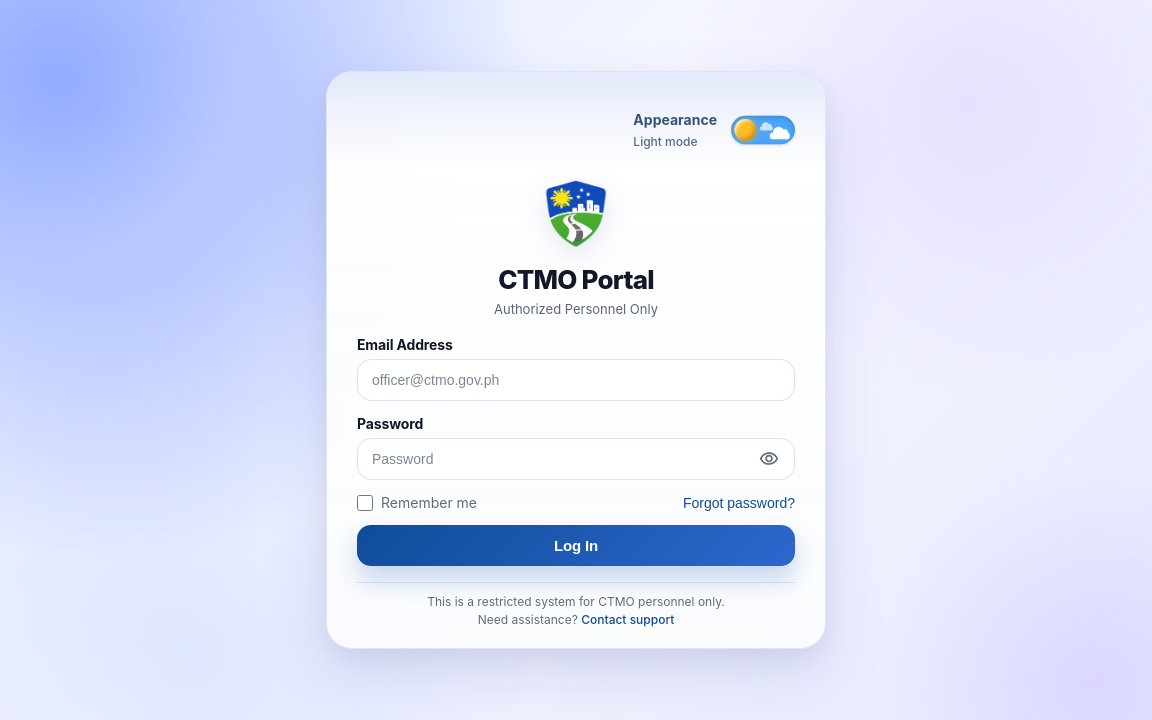
Test: login explains a non-JSON server rejection (400)
Type "officer@example.com" into the field labelled "Email Address". click: (576, 380)
box: [357,359,795,401]
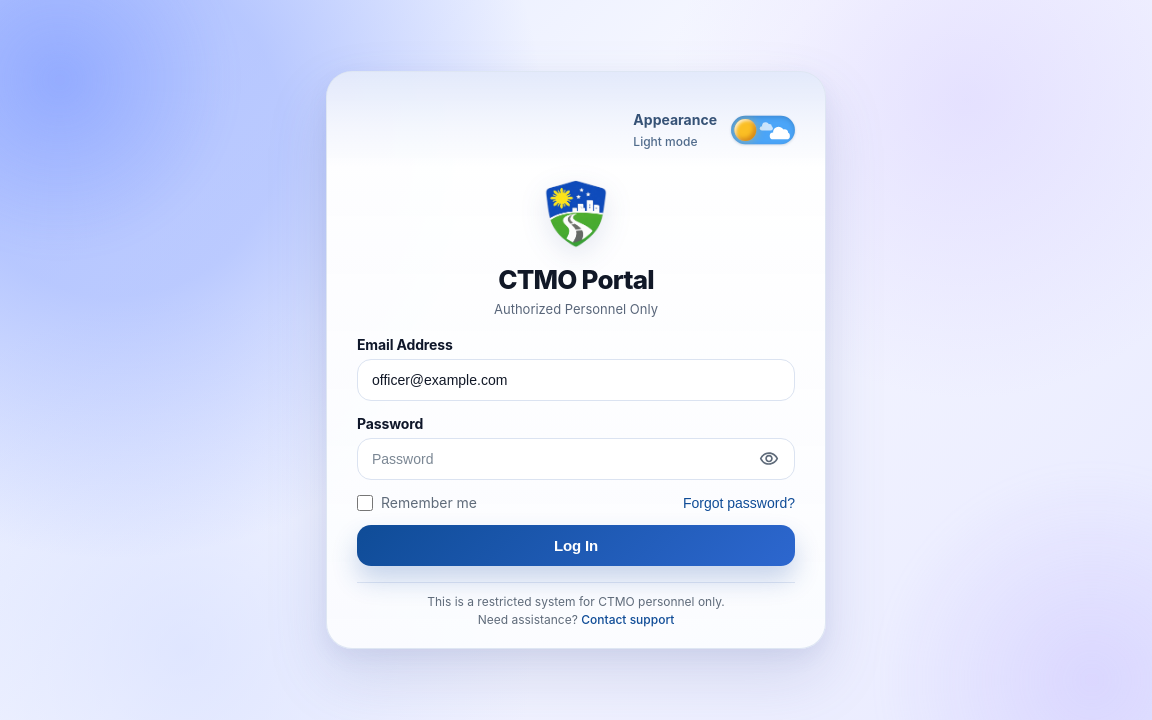
Type "test-password" into the password field labelled "Password". click: (576, 459)
box: [357,438,795,480]
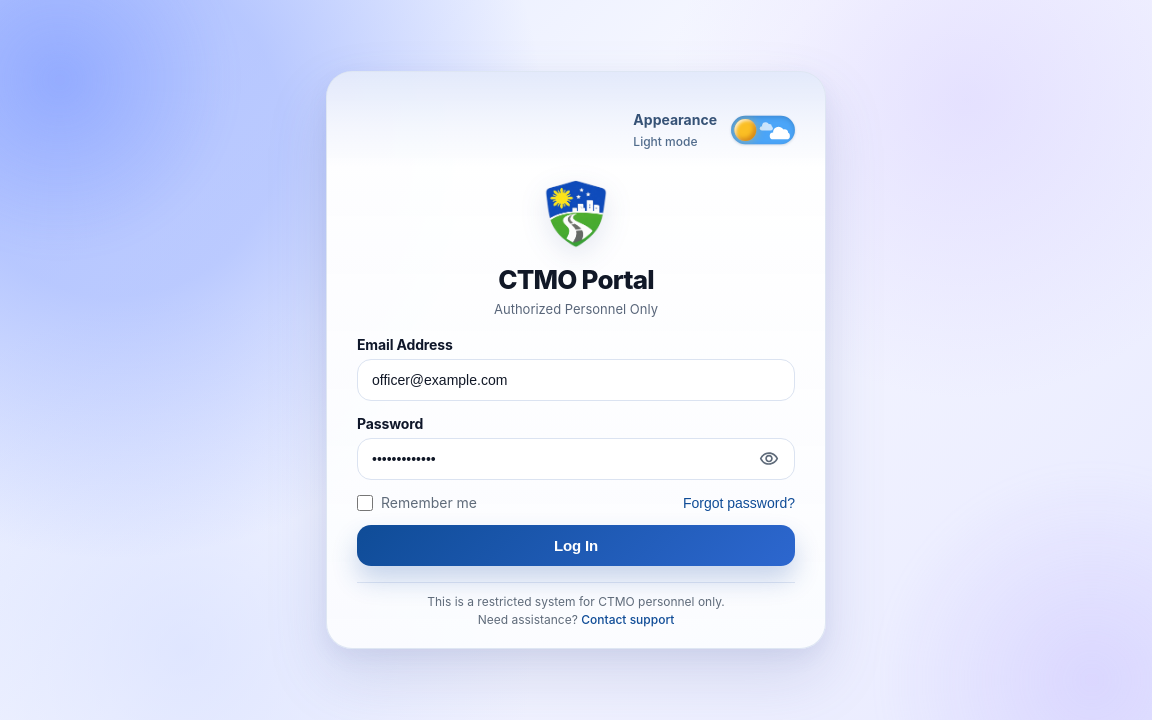
Click the button "Log In". click: (576, 546)
box: [357,525,795,566]
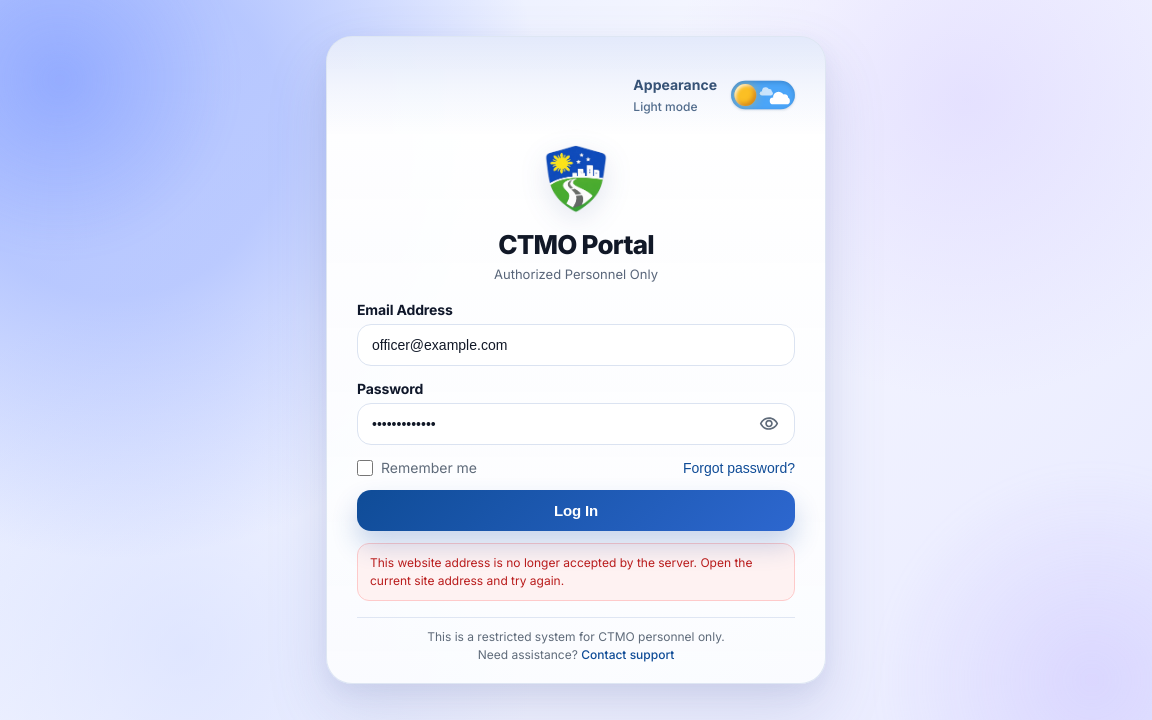
Expected: the text "This website address is no longer accepted by the server. Open the current site address and try again." is shown, [370,555,752,588]
